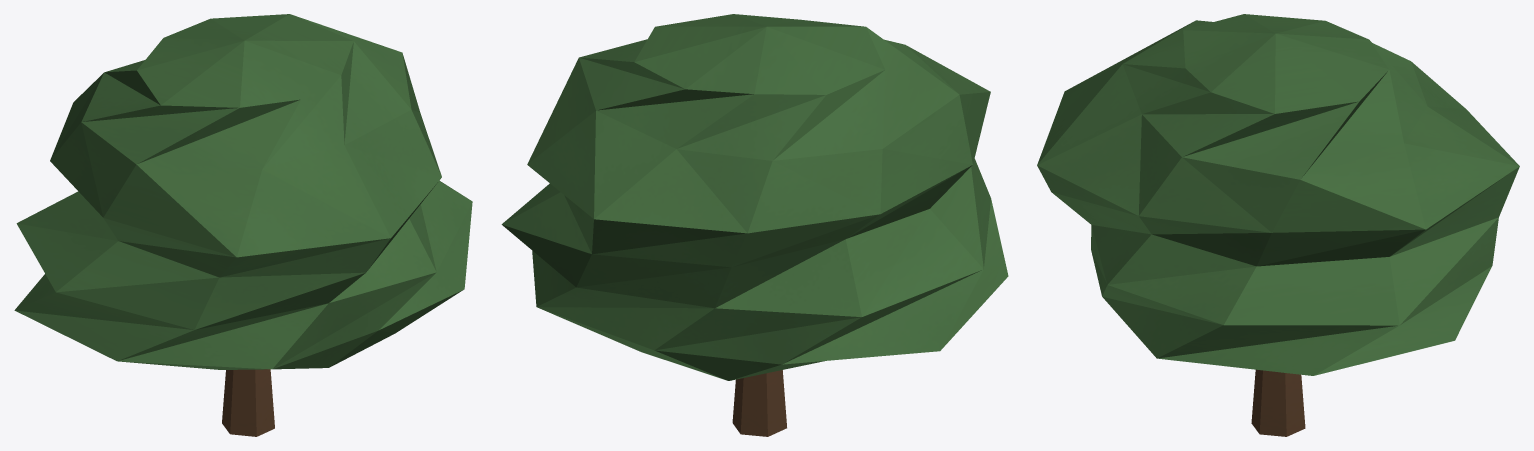
The model's file is far_jura_ancient.fbx.
The picture shows the model from 3 angles, left to right: view 1: azimuth 30°, elevation 25°; view 2: azimuth 150°, elevation 25°; view 3: azimuth 270°, elevation 25°; orthographic projection. The views are drawn at different scales.
Visible parts, largest first — view 1: far_jura_ancient__Card; view 2: far_jura_ancient__Card; view 3: far_jura_ancient__Card.
Boxes of the visible parts, x1,y1,x2,y2 form: far_jura_ancient__Card: (14, 14, 472, 436); far_jura_ancient__Card: (501, 14, 1008, 436); far_jura_ancient__Card: (1037, 14, 1519, 436).
Bounding box in the file's own units: 72 × 65 × 73.
1 material, 1 textured.
